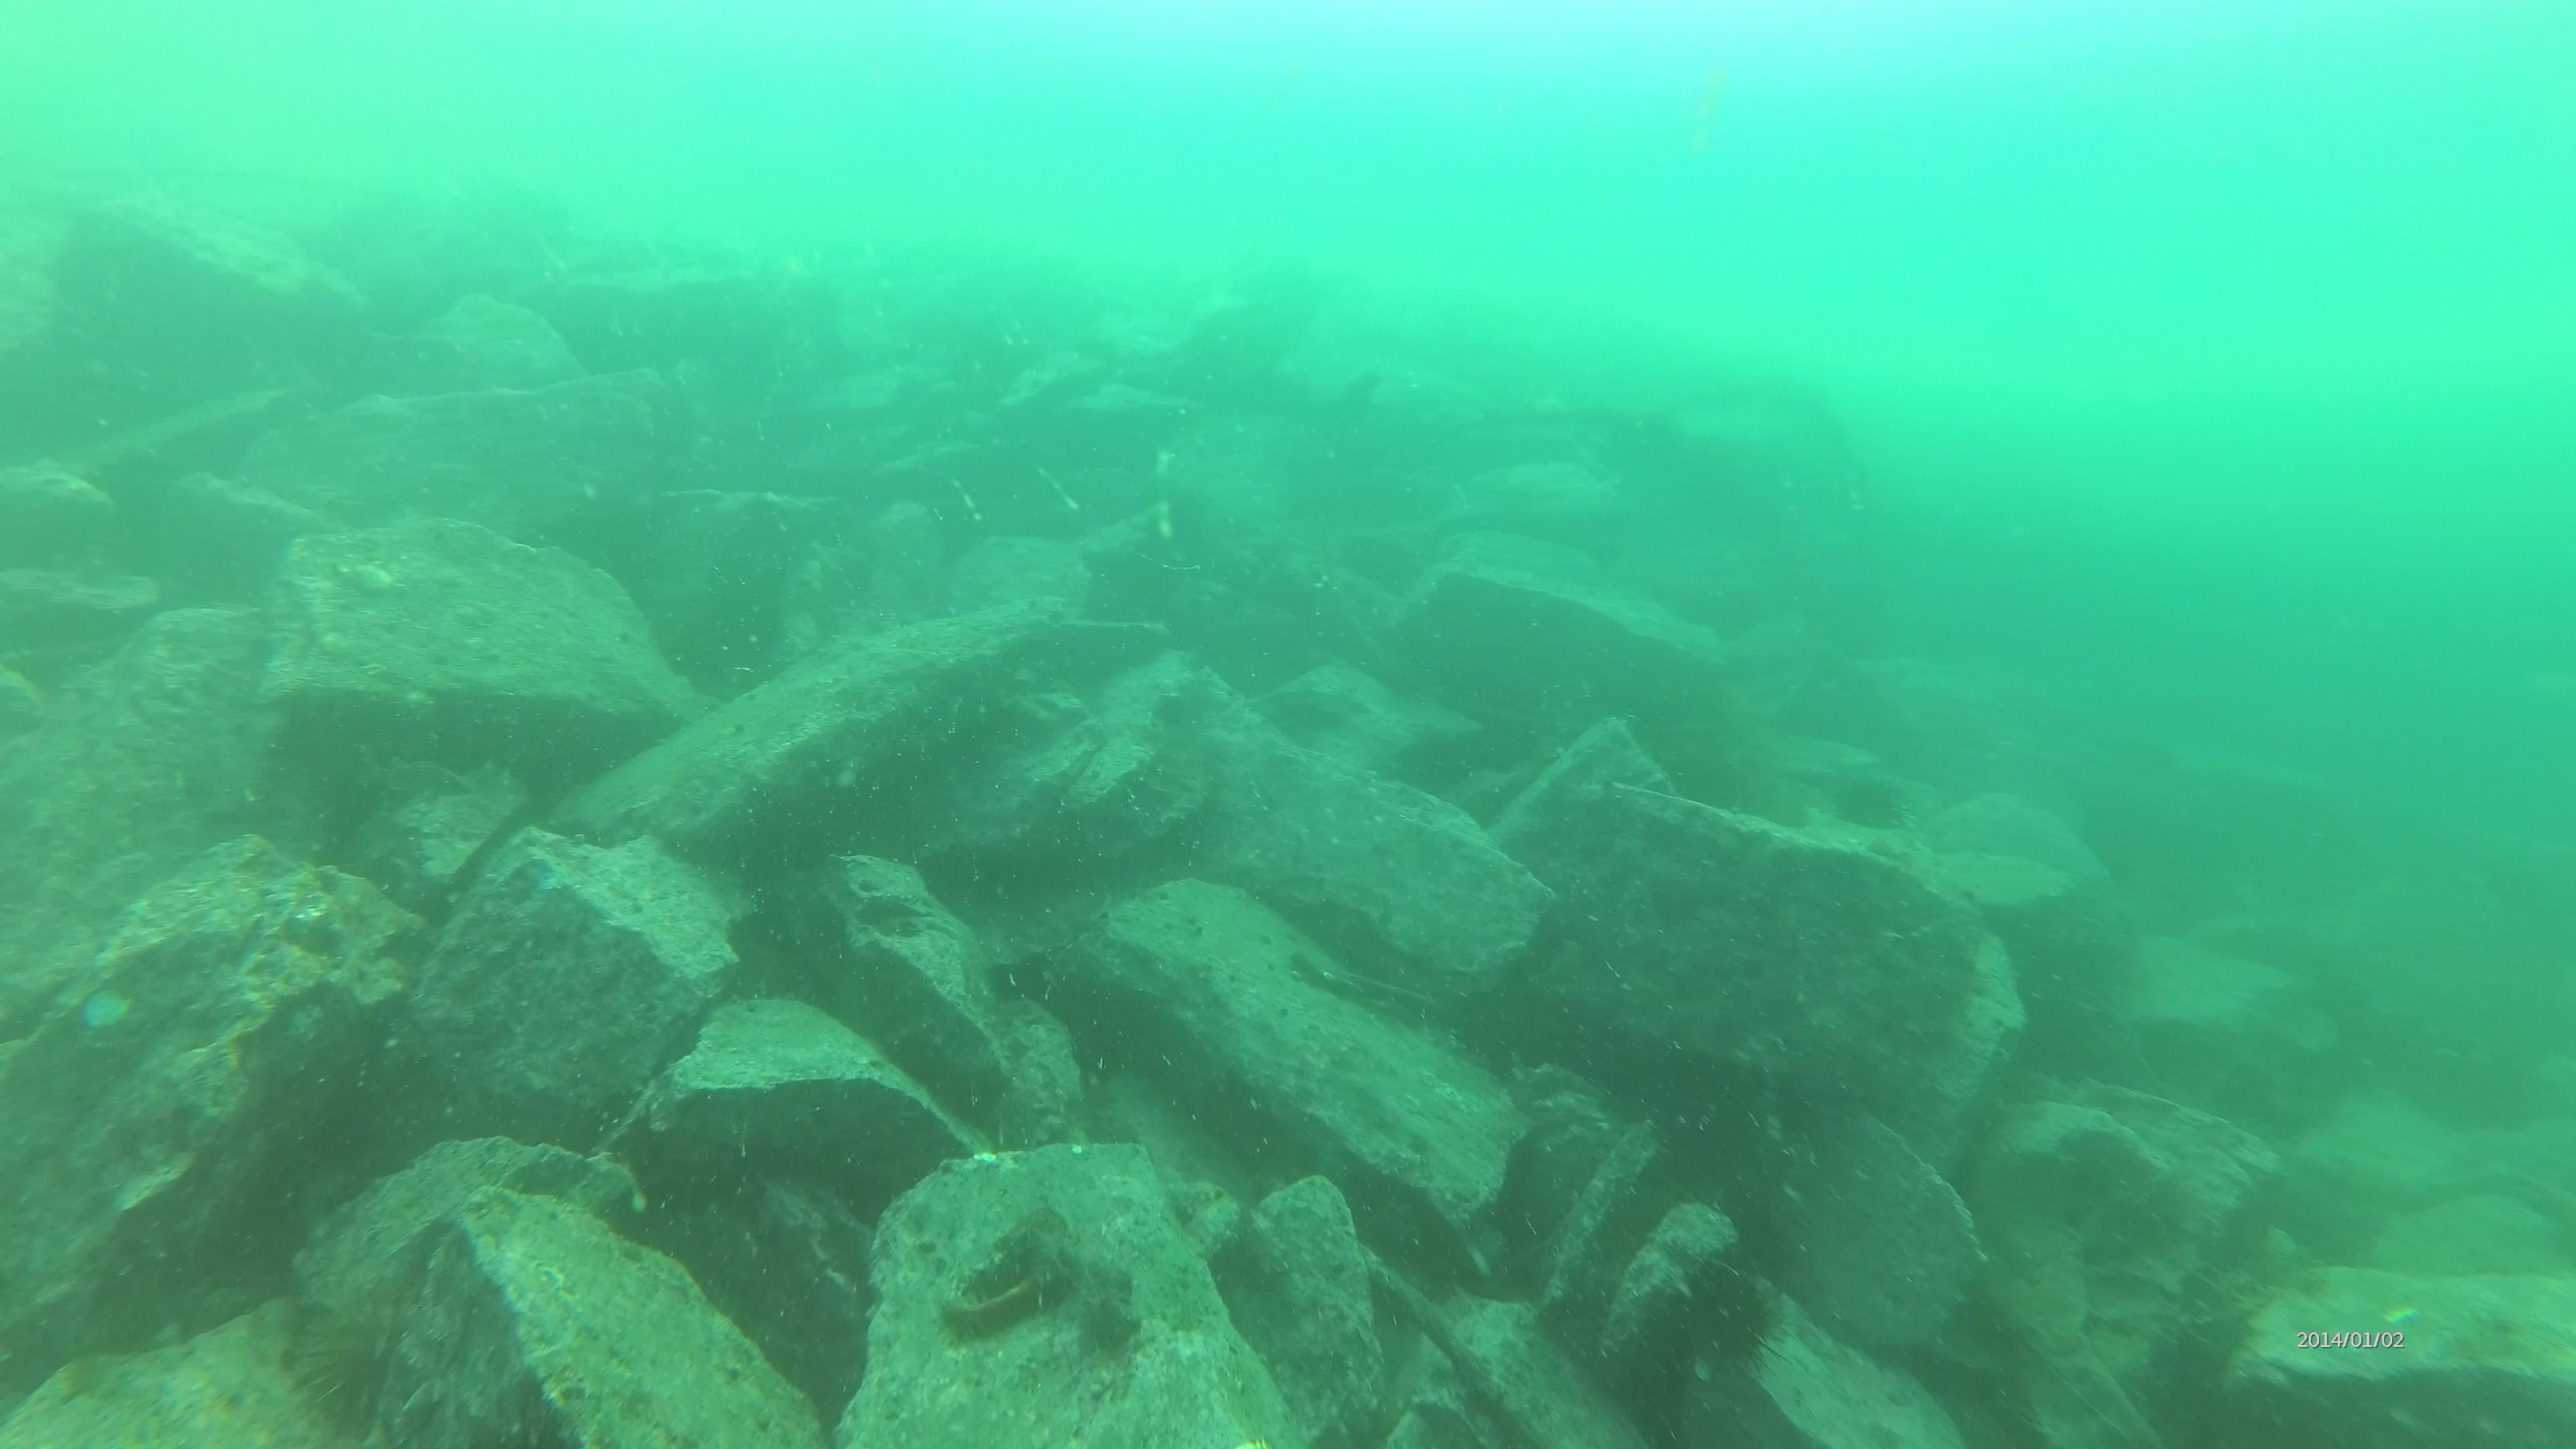echinus: (278, 1327, 414, 1415), (1675, 1269, 1785, 1364)
